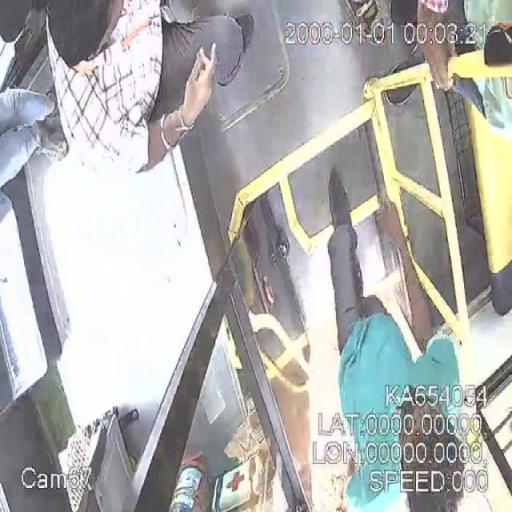persona: (325, 170, 467, 511), (29, 0, 257, 175)
